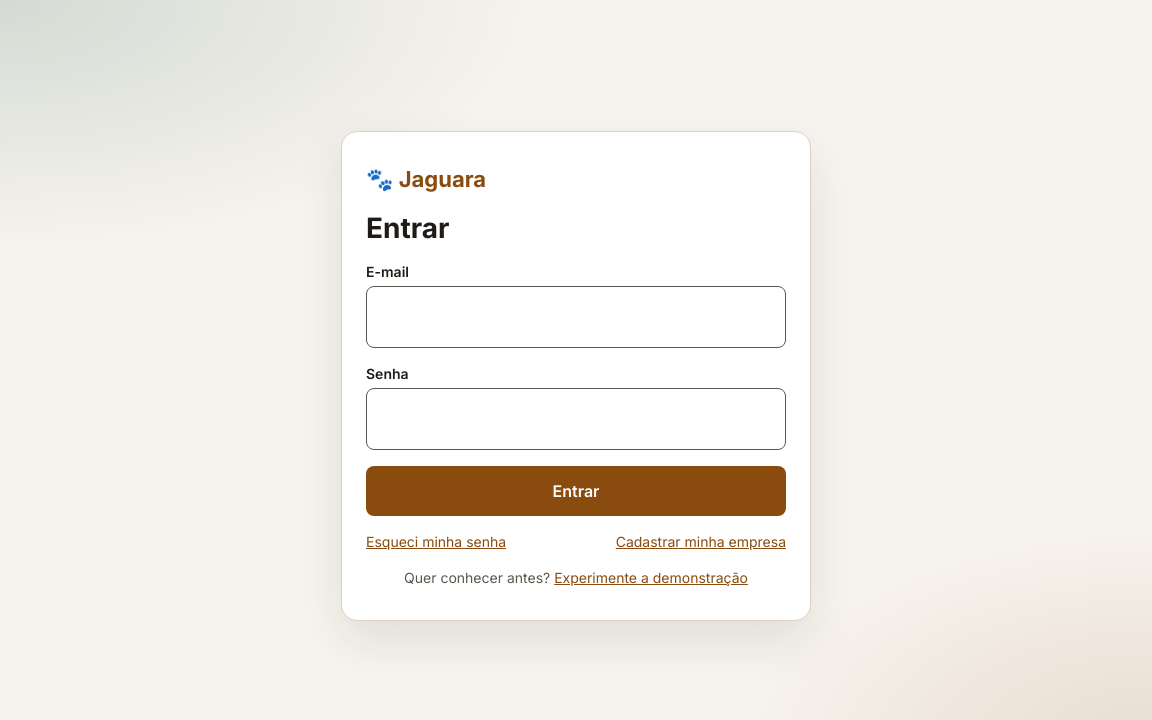
Test: Tela de login da web (UC-02) › deve recusar com mensagem genérica quando a senha está errada
The width and height of the screenshot is (1152, 720).
Type "clinica@exemplo.com" into the field labelled "E-mail".
click(576, 317); type("clinica@exemplo.com")  # box left=366, top=286, right=786, bottom=348
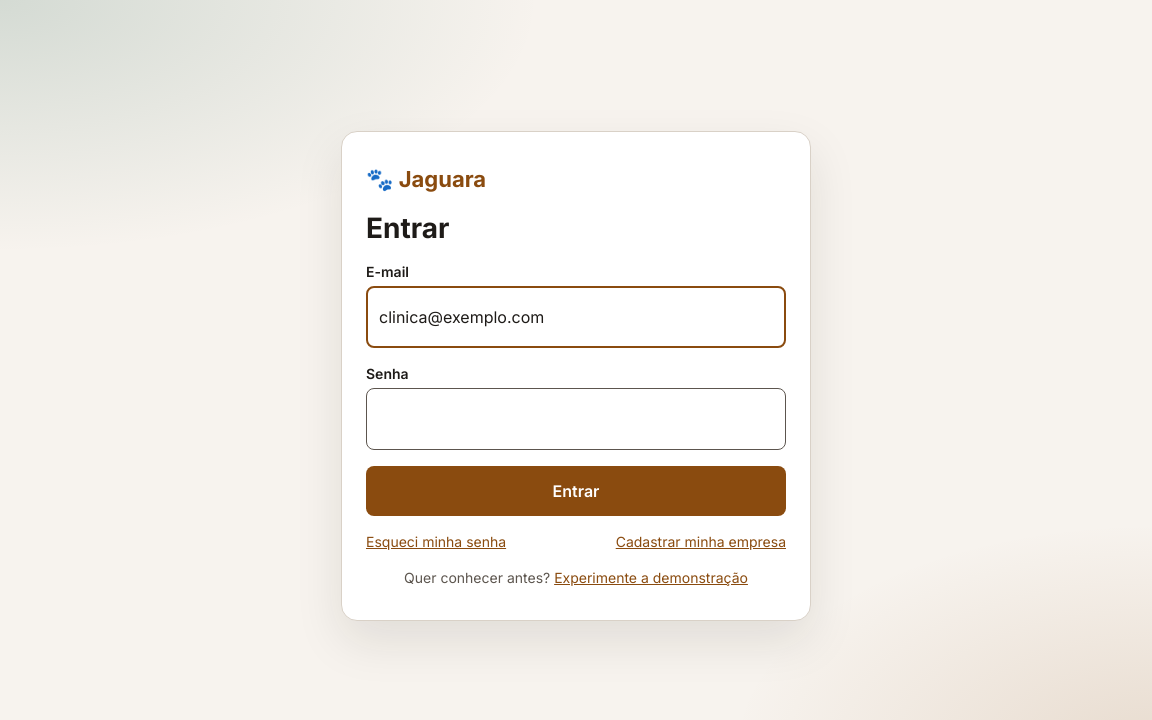
Type "Senha@123" into the password field labelled "Senha".
click(576, 419); type("Senha@123")  # box left=366, top=388, right=786, bottom=450
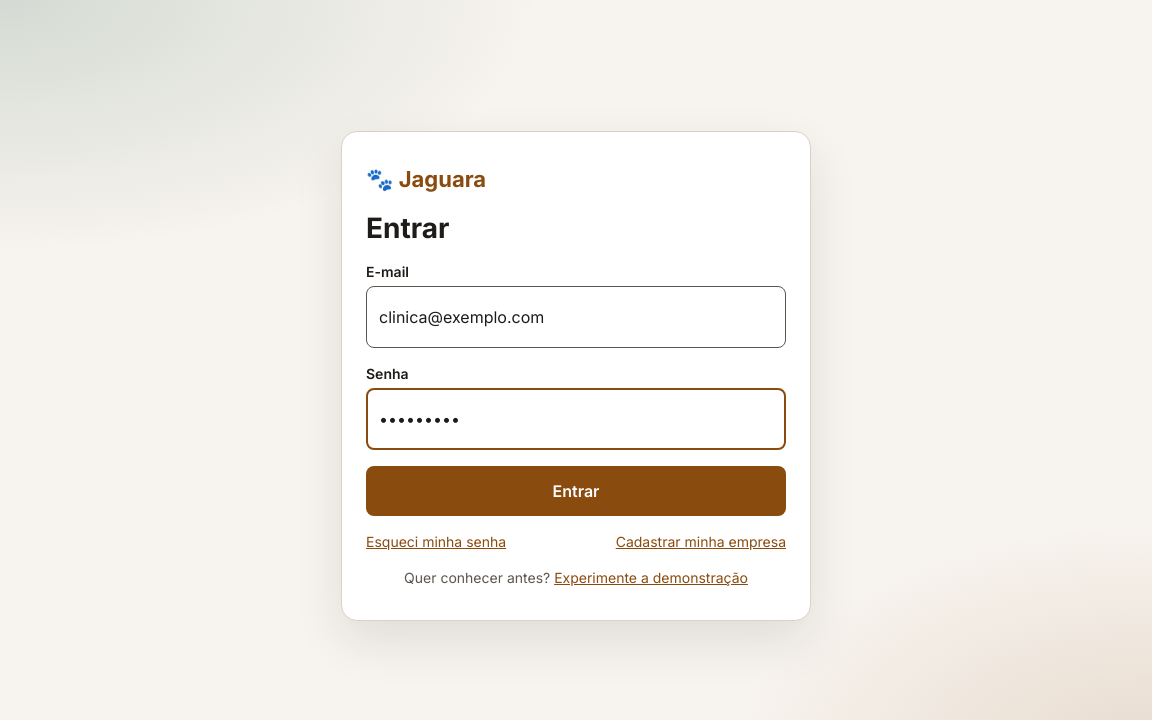
Click the button "Entrar".
click(576, 491)  # box left=366, top=466, right=786, bottom=516
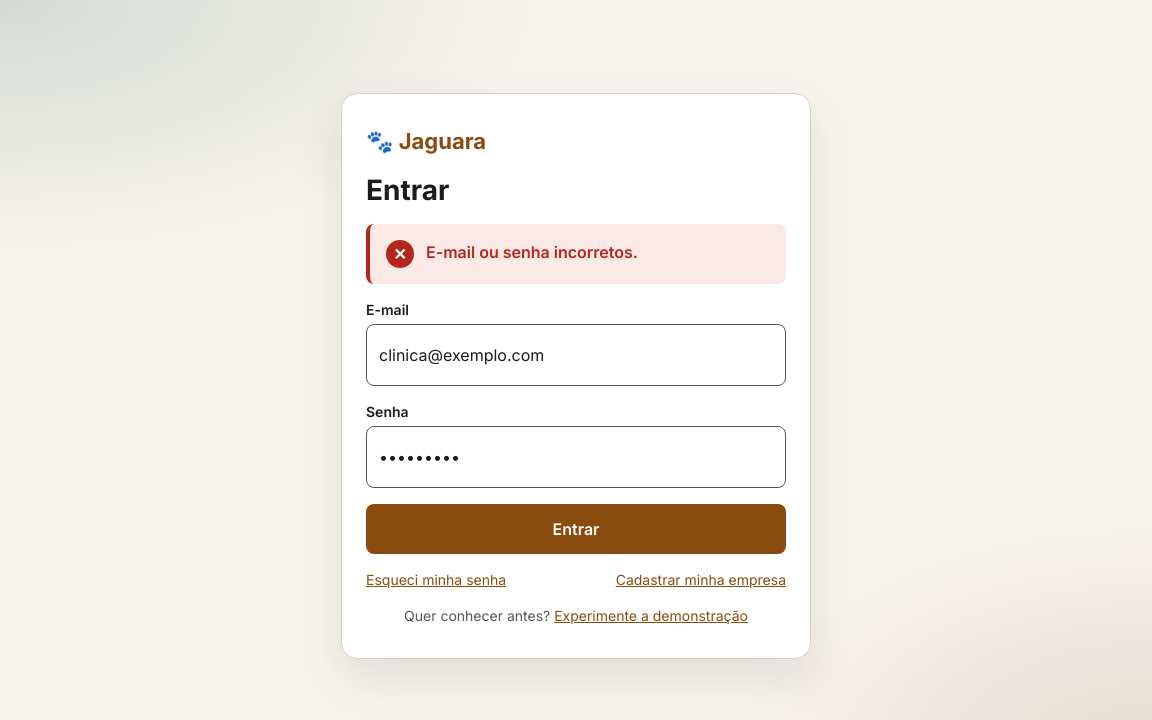
expect the message shows "E-mail ou senha incorretos.": met, box left=426, top=242, right=638, bottom=262
